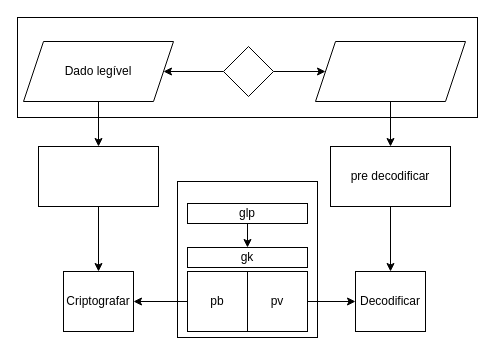
This 495x355 diagram has some shape labels left out. The box of each missing label's shape, as (x1, y1, x2, y2) in pixels:
Dado criptografado: (314, 40, 466, 102)
PC: (176, 180, 318, 338)
pre codificar: (38, 146, 158, 206)
UI: (16, 16, 478, 118)
